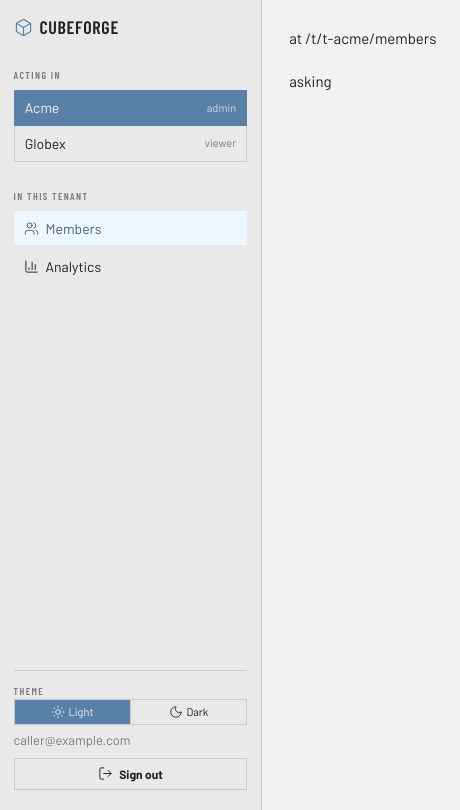
Test: switching tenant from inside a section › still lands on the members listing from the members listing
The width and height of the screenshot is (460, 810).
Expected: the element showing "Acme admin" is shown, [14,90,247,126]
Click the link "Globex viewer": point(130, 144) [14,126,247,162]
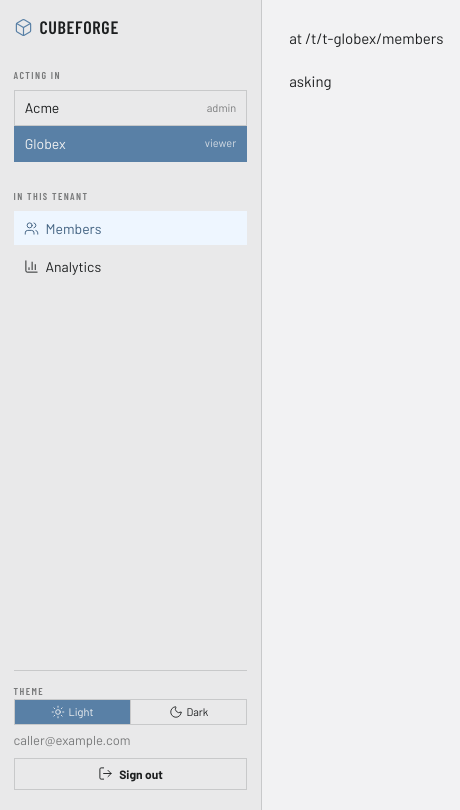
Result: the text "at /t/t-globex/members" is shown at [289,29,443,47]
